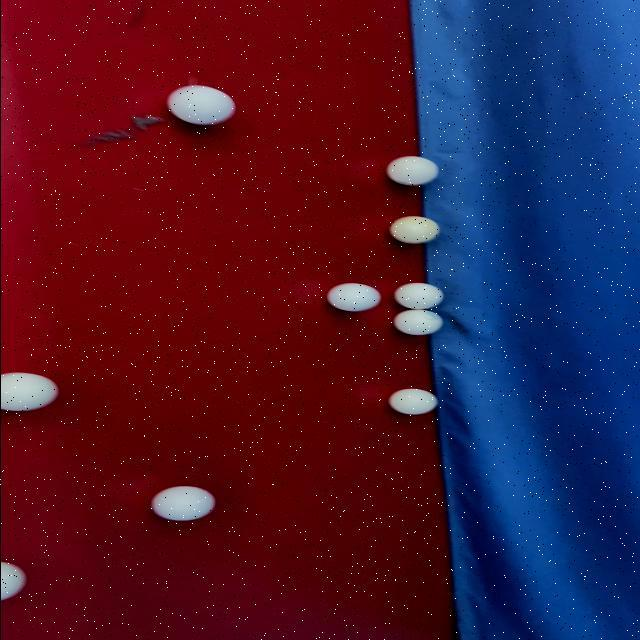ping-pong-ball: (164, 84, 238, 128), (0, 368, 62, 415), (150, 483, 218, 522), (380, 154, 440, 188), (323, 282, 382, 314), (384, 215, 442, 246), (384, 386, 439, 417), (391, 282, 446, 311), (390, 309, 446, 337)
